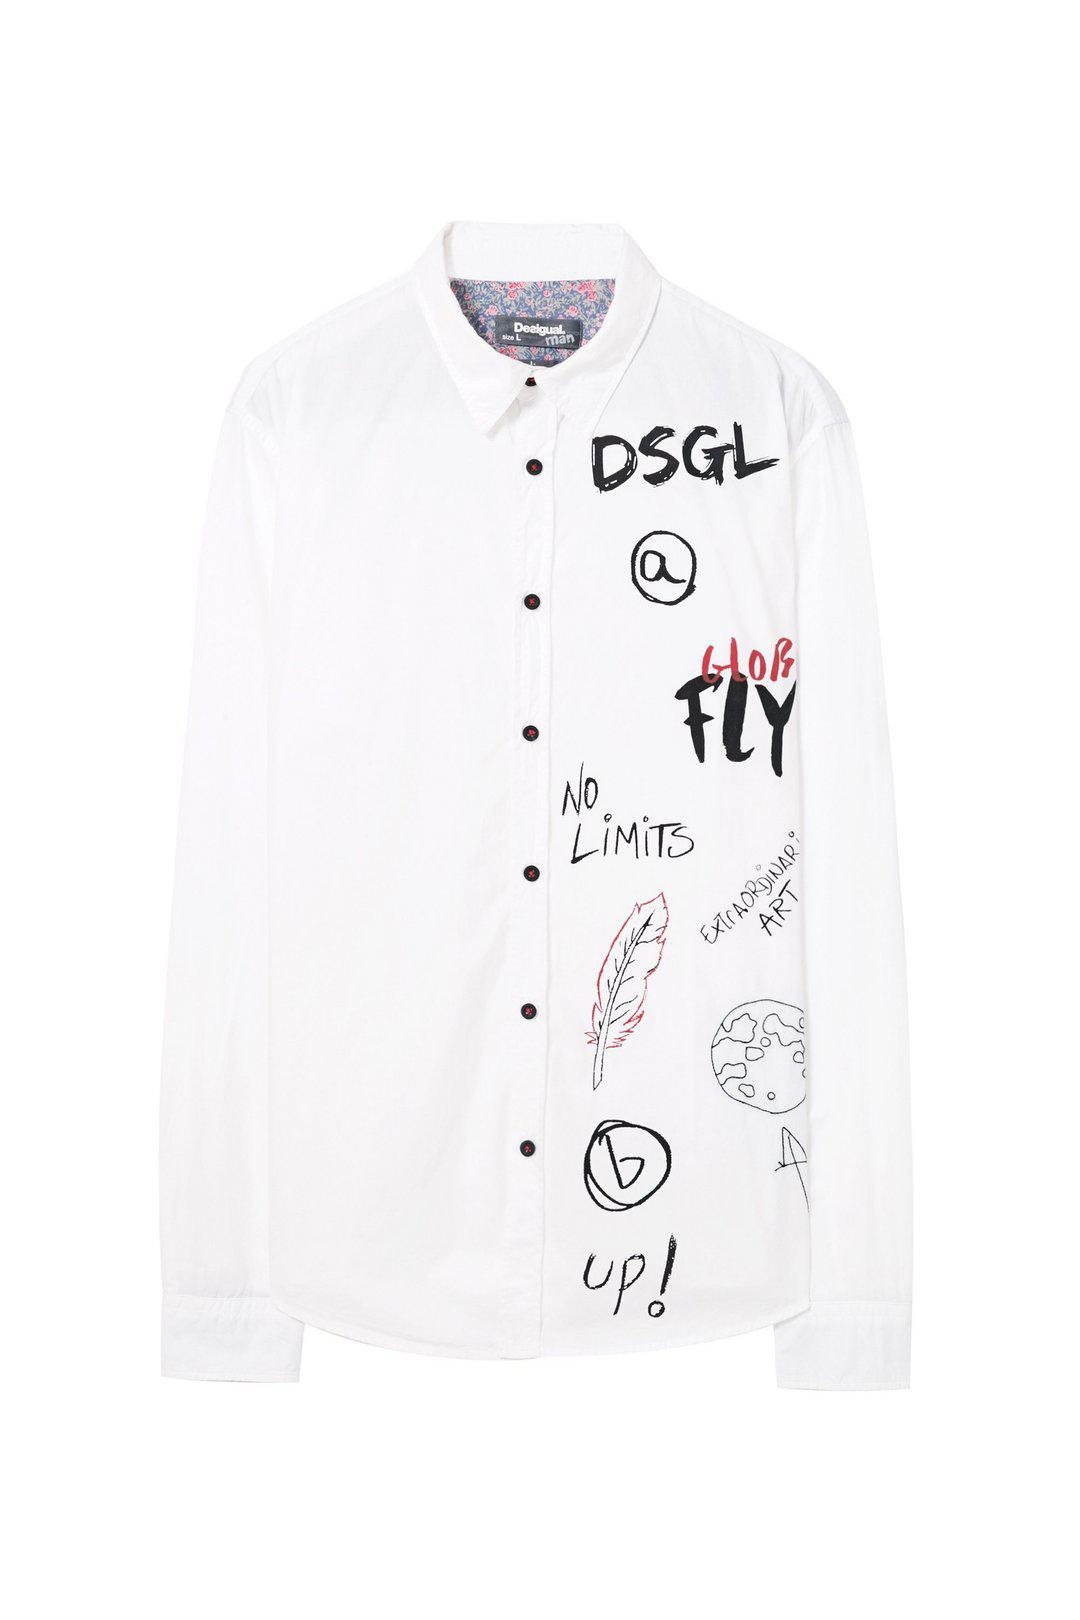teeshirt: (155, 212, 958, 1455)
